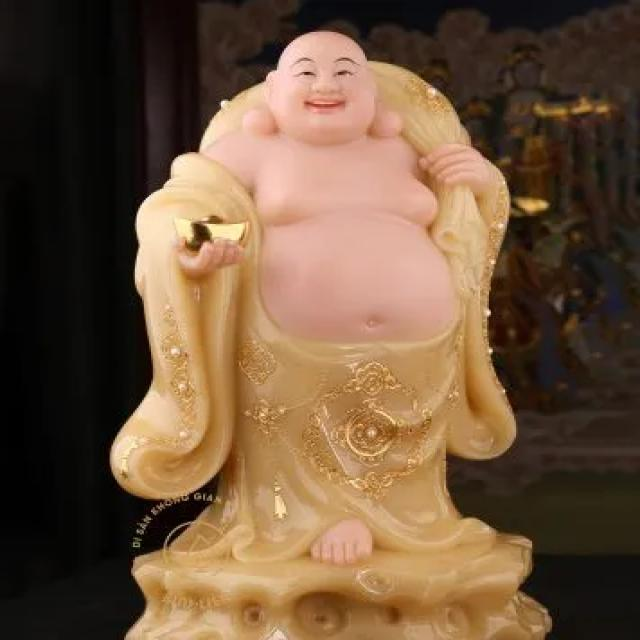Smiling Buddha: (157, 32, 497, 477)
